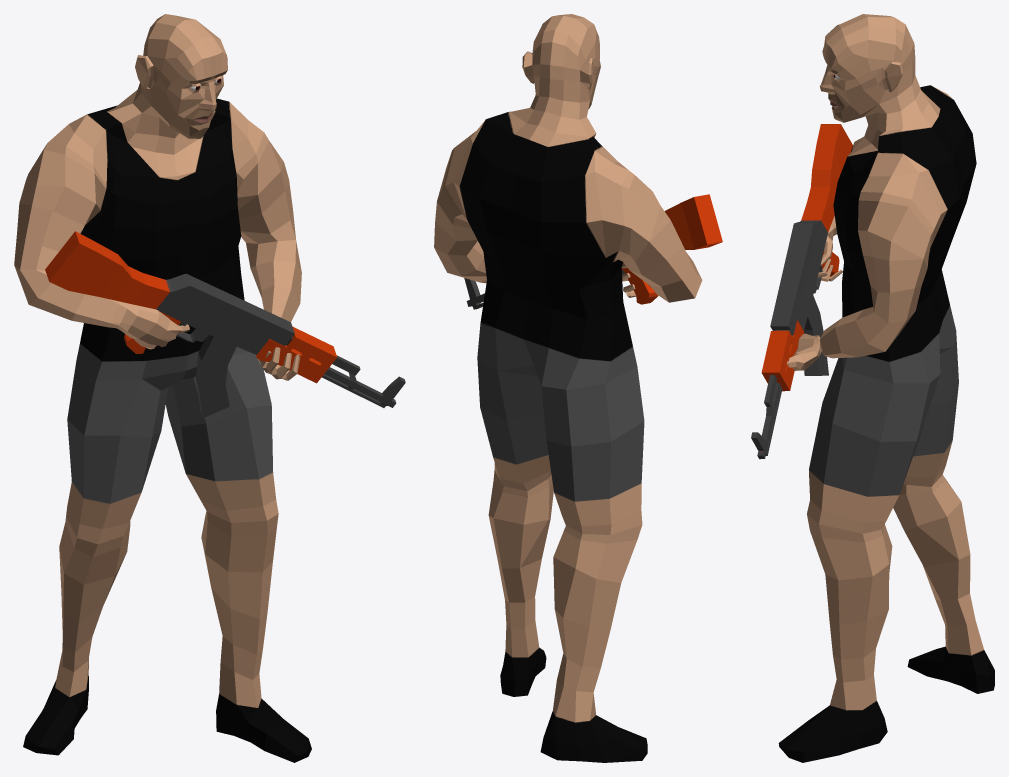
File: PlayerIdle(179).obj
3 views of the same model, side by side, from view 1: azimuth 30°, elevation 25°; view 2: azimuth 150°, elevation 25°; view 3: azimuth 270°, elevation 25° (orthographic). The views are drawn at different scales.
Parts seen in each view (by area): view 1: Plane002, Object001; view 2: Plane002, Object001; view 3: Plane002, Object001.
Boxes of the visible parts, x1,y1,x2,y2 form: Plane002: (14, 14, 317, 762); Object001: (45, 231, 405, 417); Plane002: (434, 14, 702, 762); Object001: (464, 194, 722, 309); Plane002: (778, 14, 994, 762); Object001: (751, 124, 852, 459).
Bounding box in the file's own units: 814 × 1801 × 567.
